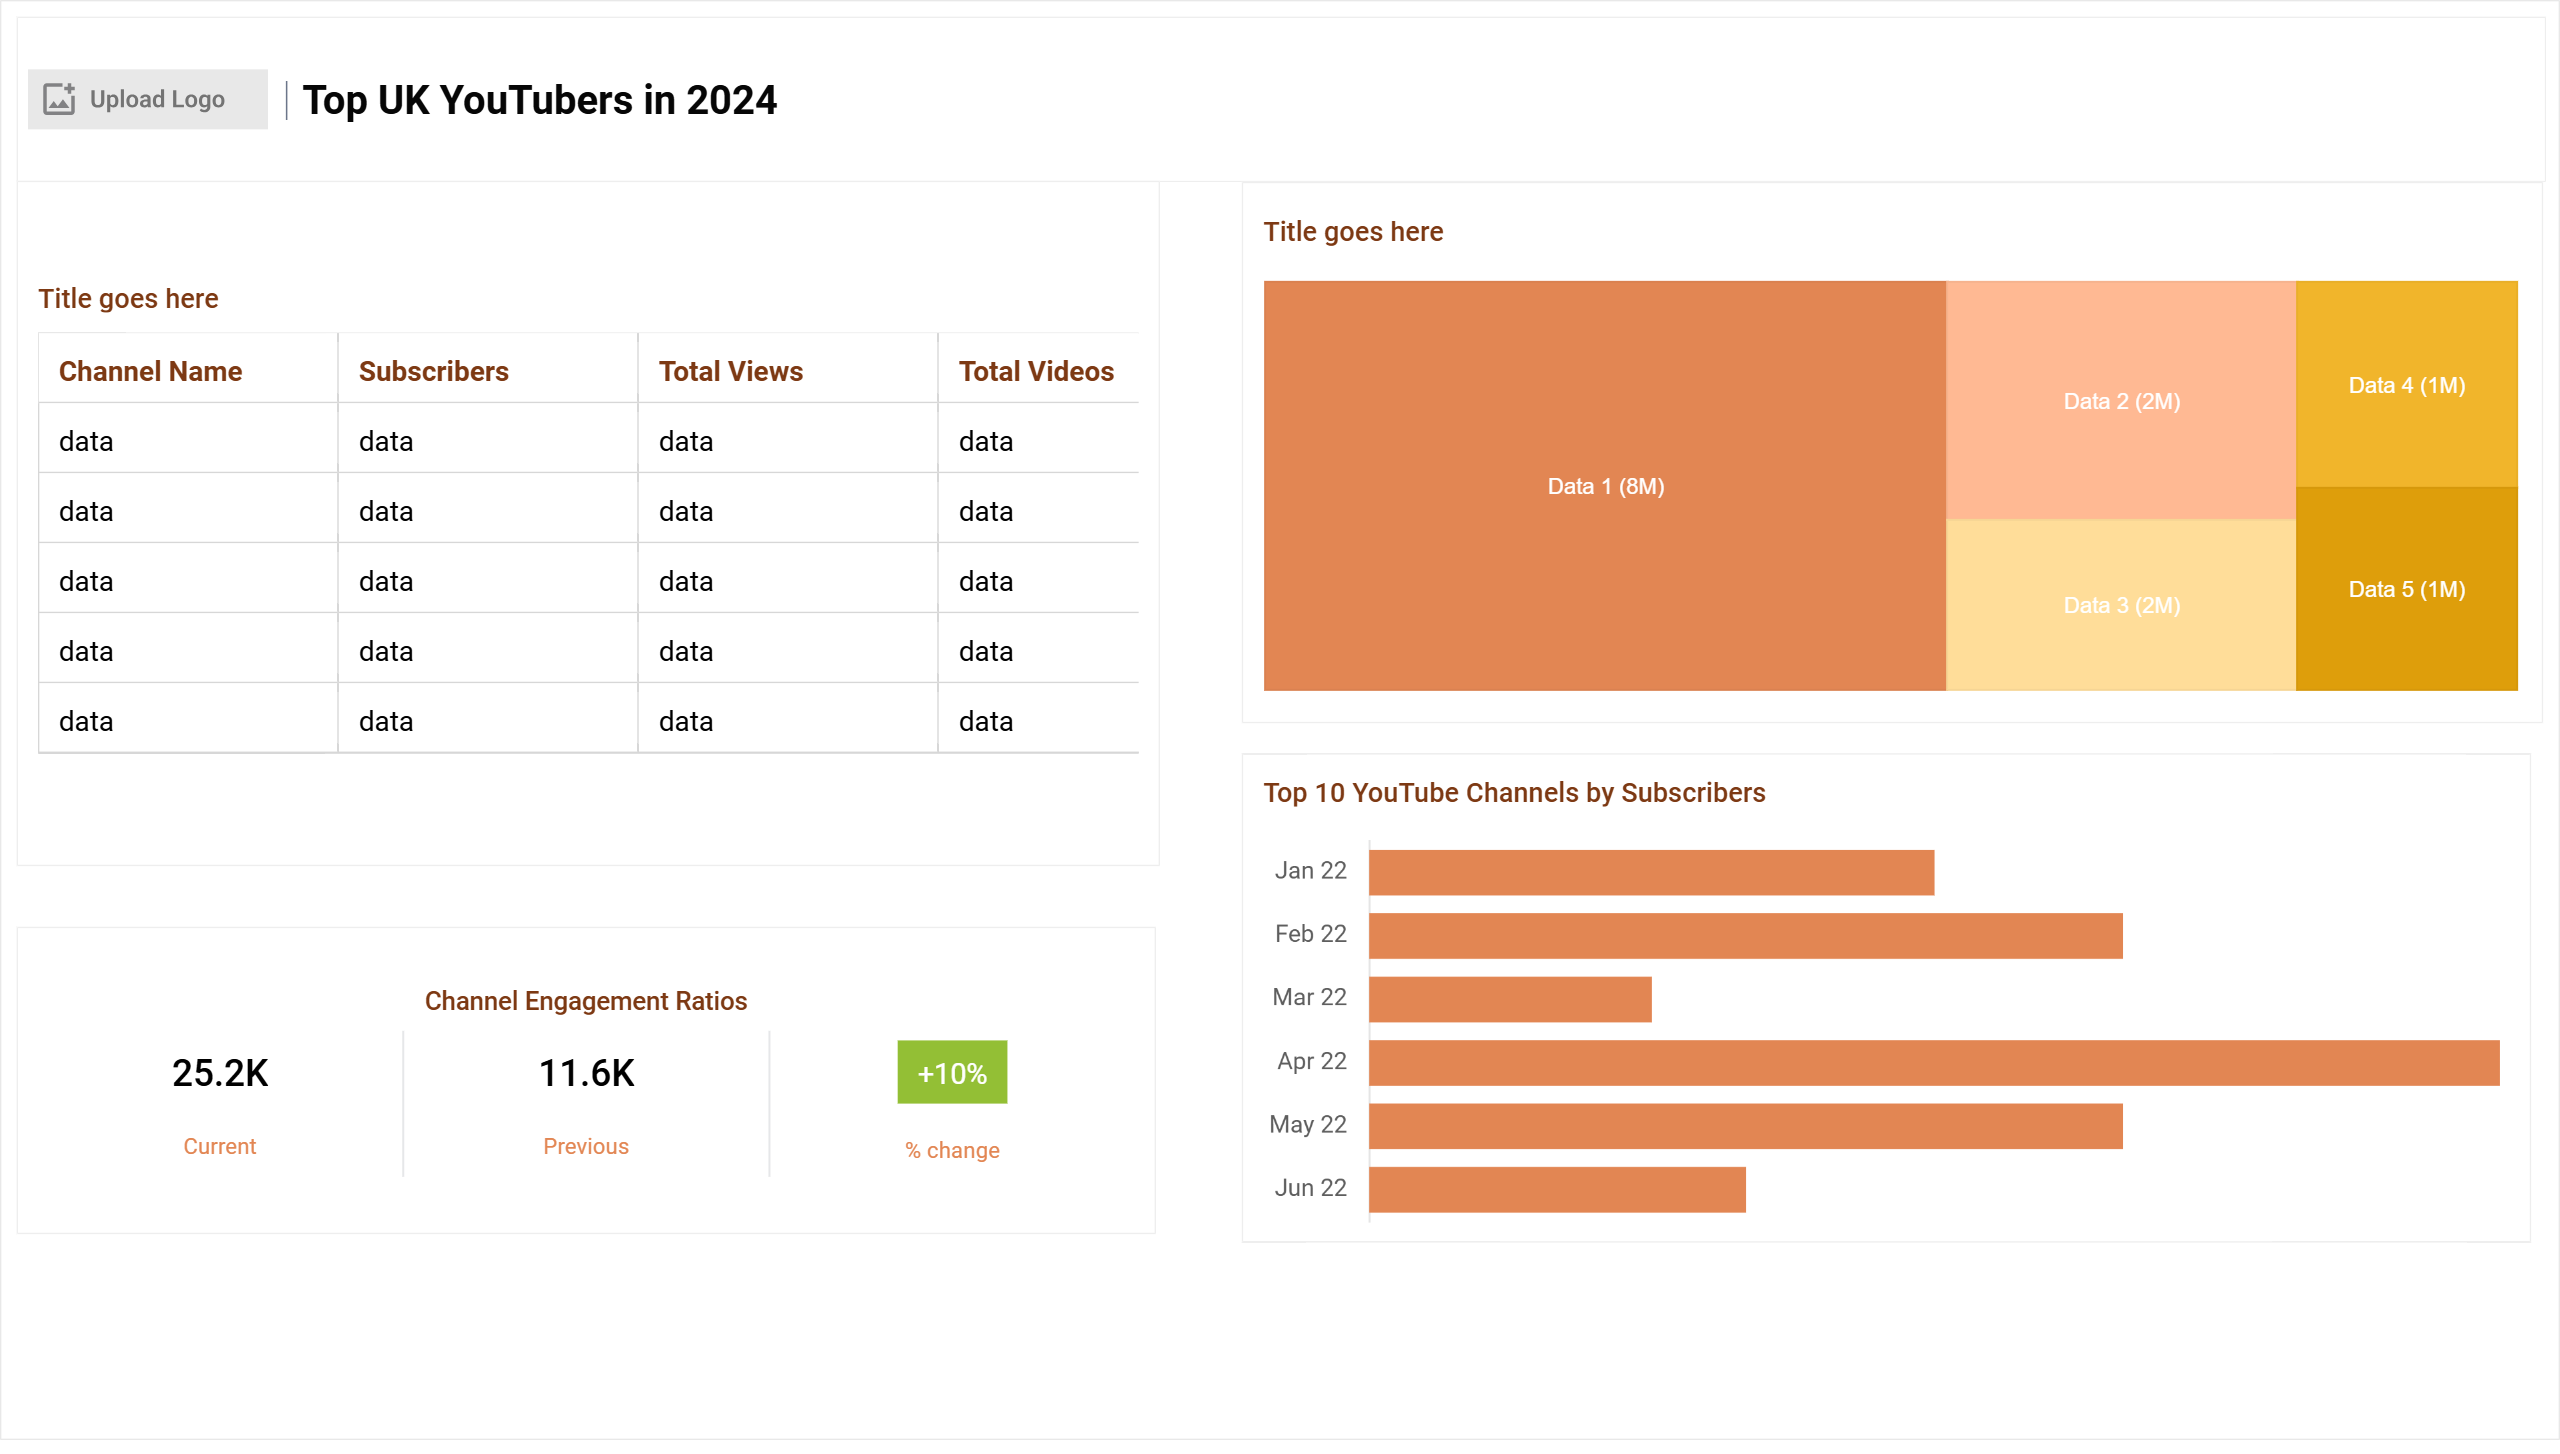

This screenshot's page, from the dashboard's own definition file:
{"tool":"powerbi","page":{"name":"Page 1","canvas":[1280,720],"ordinal":0},"visuals":[{"type":"textbox","box":[417,17.9,526.2,69.5],"z":0},{"type":"tableEx","fields":{"Values":["view_ng_youtubers2024.channelname","view_ng_youtubers2024.Total Subscribers (M)","view_ng_youtubers2024.Total Views","Sum(view_ng_youtubers2024.total_videos)"]},"box":[11.1,104.9,669.1,357.6],"z":1000},{"type":"treemap","title":"Top 10 YouTubers by Views","fields":{"Values":["view_ng_youtubers2024.Total Views (B)"],"Group":["view_ng_youtubers2024.channelname"]},"box":[695.7,87.4,572.8,352.7],"z":2000},{"type":"card","fields":{"Values":["view_ng_youtubers2024.Avg ViewS Per Video (M)"]},"box":[12.2,544.8,184.3,158],"z":3000},{"type":"card","fields":{"Values":["view_ng_youtubers2024.Views Per Subscriber"]},"box":[482,544.8,184.3,158],"z":4000},{"type":"card","fields":{"Values":["view_ng_youtubers2024.Subscribers Engagement Rate"]},"box":[210.6,544.8,228.9,158],"z":5000},{"type":"clusteredBarChart","title":"Top 10 YouTubers by Subscribers","fields":{"Category":["view_ng_youtubers2024.channelname"],"Y":["view_ng_youtubers2024.Total Subscribers (M)"]},"box":[697.3,456.3,571.1,265.3],"z":6000},{"type":"textbox","box":[32.4,475.9,577.2,52.7],"z":7000}]}

Visuals, with their boxes in screenshot pixels (x1, y1, x2, y2), scaled from the page's 1280x720 canvas onto the 2560x1454 screenshot:
textbox: box=[834, 36, 1886, 176]
tableEx - view_ng_youtubers2024.channelname x view_ng_youtubers2024.Total Subscribers (M): box=[22, 212, 1360, 934]
"Top 10 YouTubers by Views" treemap: box=[1391, 176, 2537, 889]
card - view_ng_youtubers2024.Avg ViewS Per Video (M): box=[24, 1100, 393, 1419]
card - view_ng_youtubers2024.Views Per Subscriber: box=[964, 1100, 1333, 1419]
card - view_ng_youtubers2024.Subscribers Engagement Rate: box=[421, 1100, 879, 1419]
"Top 10 YouTubers by Subscribers" clusteredBarChart: box=[1395, 921, 2537, 1453]
textbox: box=[65, 961, 1219, 1067]
